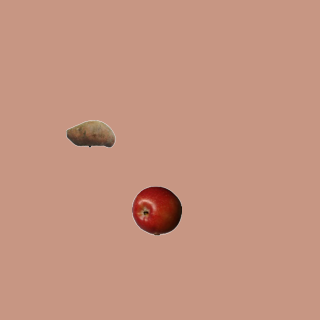Apple Braeburn: (131, 185, 181, 235)
Potato Sweet: (65, 108, 115, 158)
